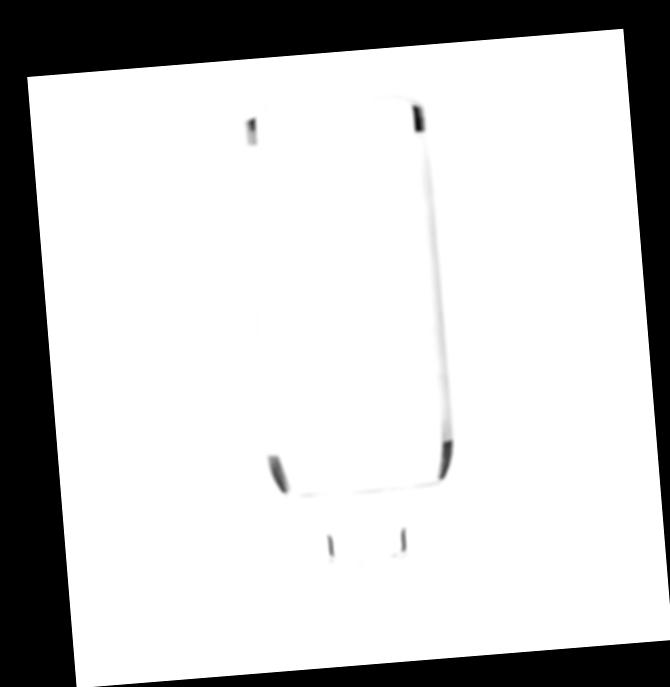cosmetic: (236, 96, 466, 636)
